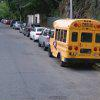Bus: (45, 14, 100, 67)
